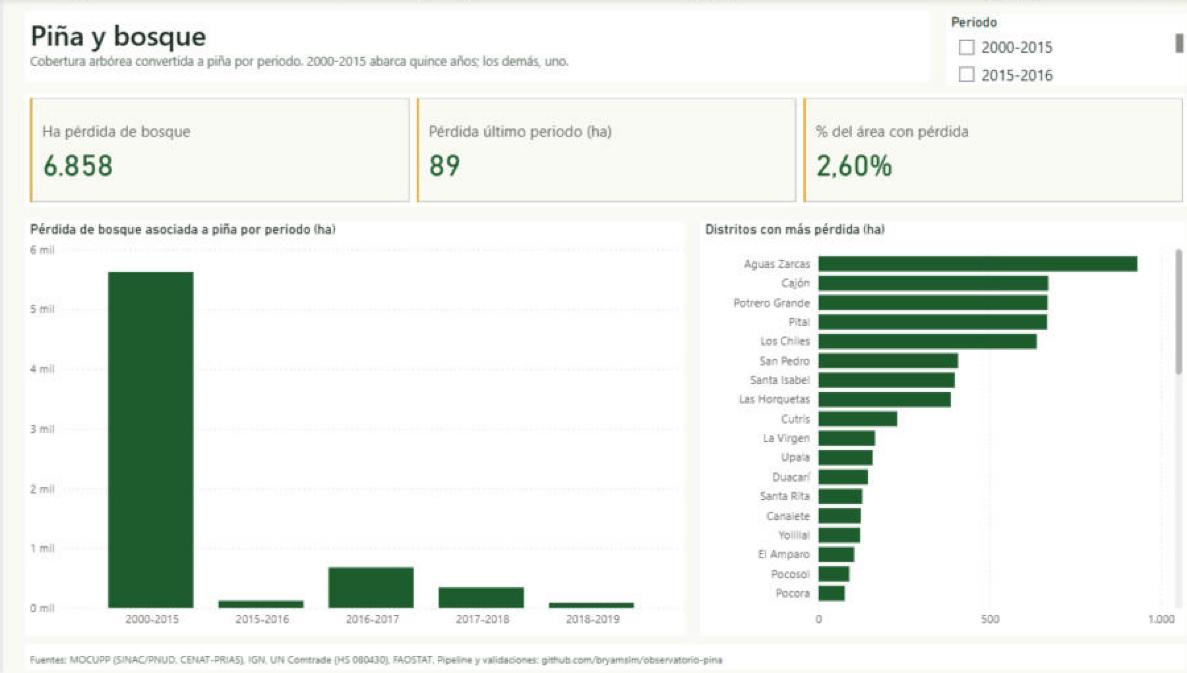

The dashboard page shown, as its layout file describes it:
{"tool":"powerbi","page":{"name":"3 · Sostenibilidad","canvas":[1280,720],"ordinal":2},"visuals":[{"type":"textbox","box":[24,12,960,76],"z":1000},{"type":"slicer","title":"Periodo","fields":{"Values":["Cambio cobertura.periodo"]},"box":[1000,16,256,76],"z":2000},{"type":"cardVisual","fields":{"Data":["Medidas.Ha pérdida de bosque","Medidas.Pérdida último periodo (ha)","Medidas.% del área con pérdida"]},"box":[24,100,1232,120],"z":3000},{"type":"clusteredColumnChart","title":"Pérdida de bosque asociada a piña por periodo (ha)","fields":{"Category":["Cambio cobertura.periodo"],"Y":["Medidas.Ha pérdida de bosque"]},"box":[24,236,700,440],"z":4000},{"type":"clusteredBarChart","title":"Distritos con más pérdida (ha)","fields":{"Category":["Distrito.distrito"],"Y":["Medidas.Ha pérdida de bosque"]},"box":[740,236,516,440],"z":5000},{"type":"textbox","box":[24,684,1232,28],"z":9000}]}

Visuals, with their boxes in screenshot pixels (x1, y1, x2, y2), scaled from the page's 1280x720 canvas onto the 1187x673 screenshot:
textbox: region(22, 11, 913, 82)
"Periodo" slicer: region(927, 15, 1165, 86)
cardVisual - Medidas.Ha pérdida de bosque x Medidas.Pérdida último periodo (ha): region(22, 93, 1165, 206)
"Pérdida de bosque asociada a piña por periodo (ha)" clusteredColumnChart: region(22, 221, 671, 632)
"Distritos con más pérdida (ha)" clusteredBarChart: region(686, 221, 1165, 632)
textbox: region(22, 639, 1165, 666)
